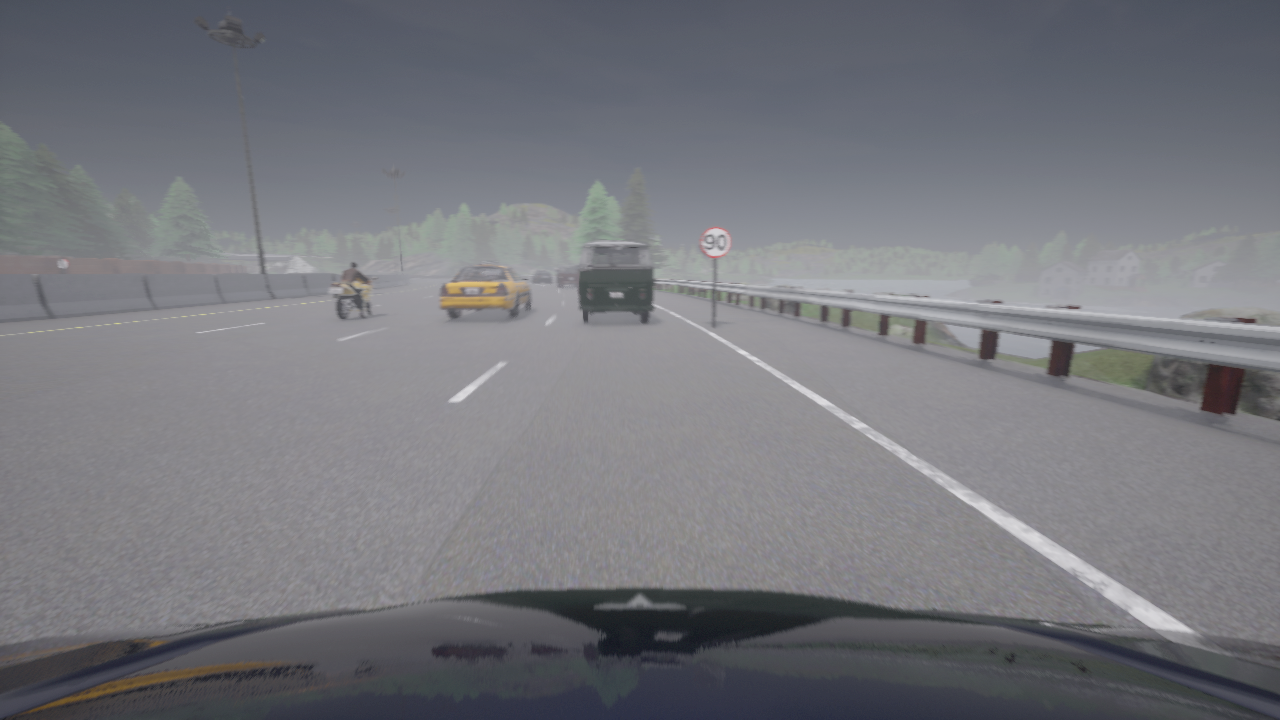cyclist: (0, 588, 1279, 719), (578, 241, 653, 322), (440, 260, 531, 318), (329, 276, 377, 319), (556, 265, 578, 287), (532, 271, 551, 283)
